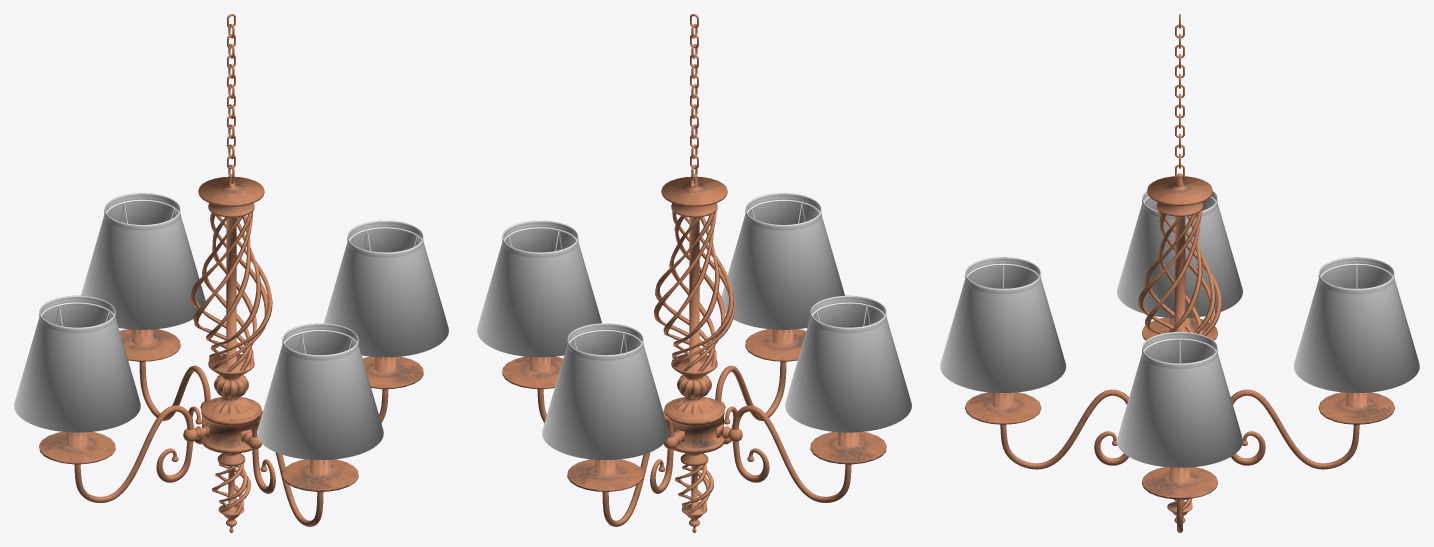
The model's file is avize.fbx.
3 views of the same model, side by side, from view 1: azimuth 30°, elevation 25°; view 2: azimuth 150°, elevation 25°; view 3: azimuth 270°, elevation 25° (orthographic).
Visible parts, largest first — view 1: Copper chandelier.011; view 2: Copper chandelier.011; view 3: Copper chandelier.011.
Part boxes in pixels (x1,y1,x2,y2): Copper chandelier.011: (14,14,448,532); Copper chandelier.011: (477,14,911,532); Copper chandelier.011: (940,14,1419,532).
Bounding box in the file's own units: 80 × 94.87 × 80.
2 materials, 1 textured.
